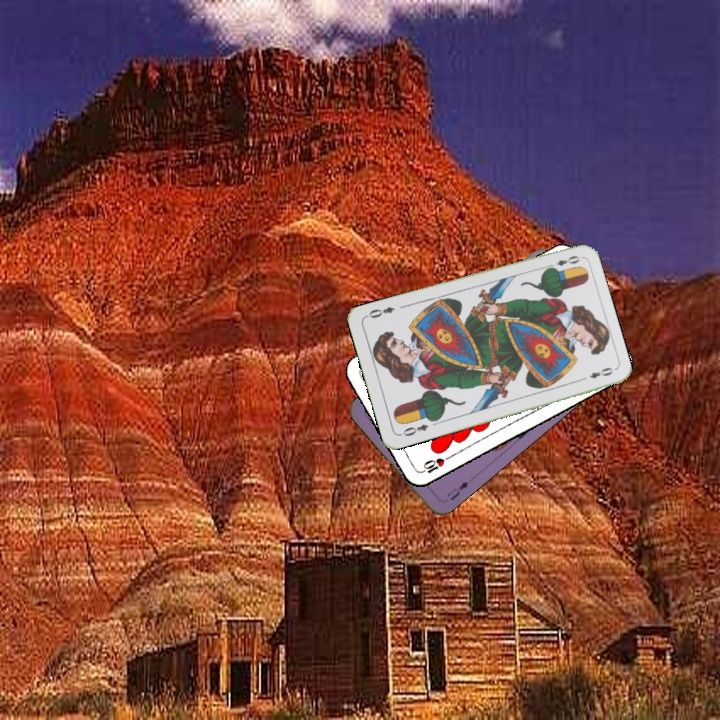EO: (543, 251, 583, 272), (396, 420, 431, 439)
EU: (443, 477, 471, 503)
H10: (415, 452, 454, 476)
